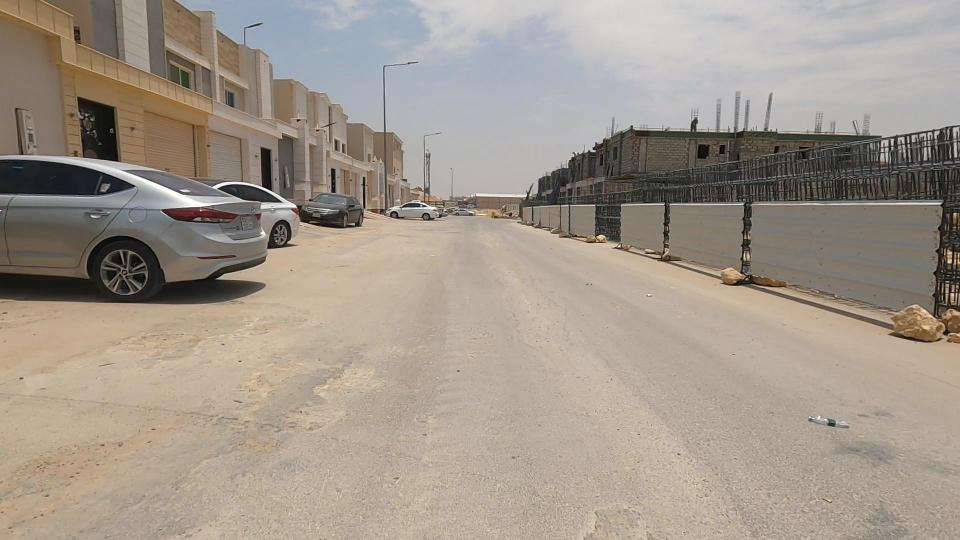GARBAGE: (769, 372, 876, 455)
POTHOLES: (162, 311, 416, 503)
